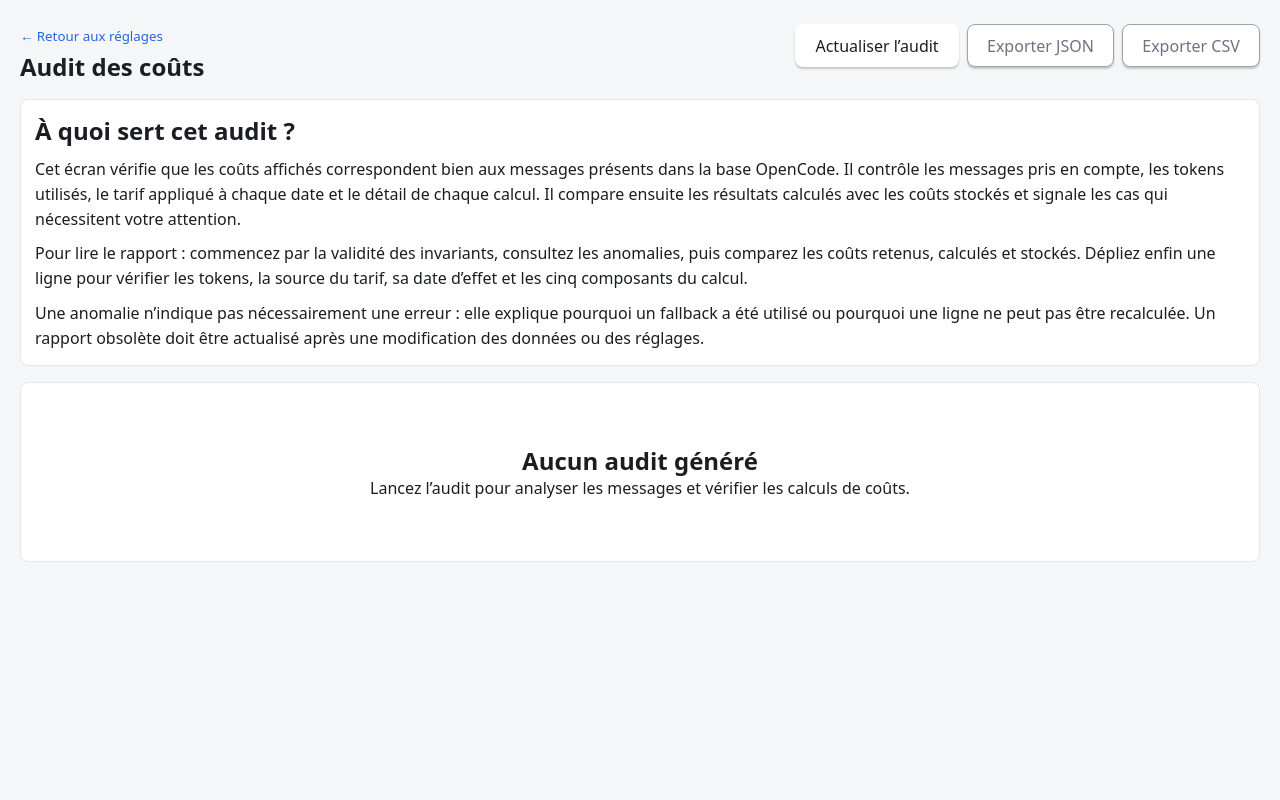
Test: AuditView › announces a stale report without refreshing automatically
Click the button "Actualiser l’audit": point(877, 46) [795, 24, 959, 67]
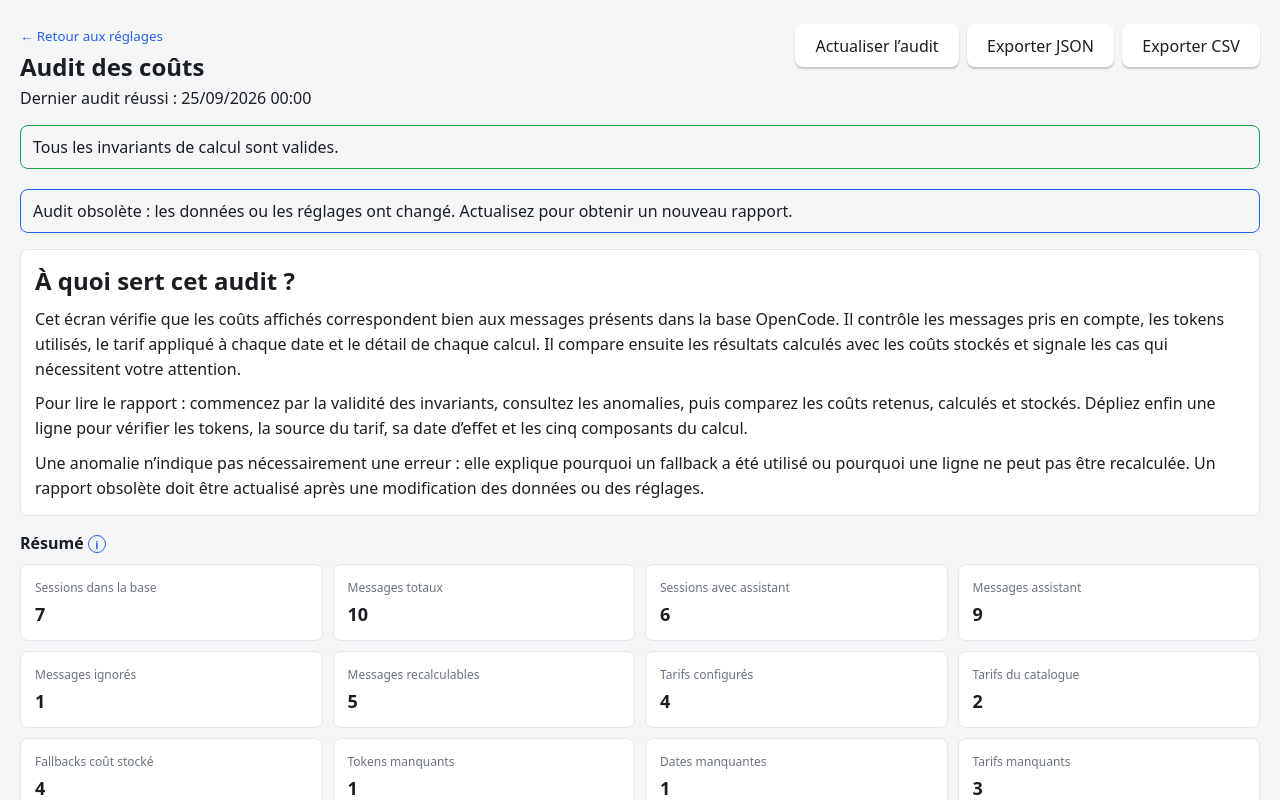
Expected: the text "Audit obsolète" is shown, [33, 200, 793, 222]
